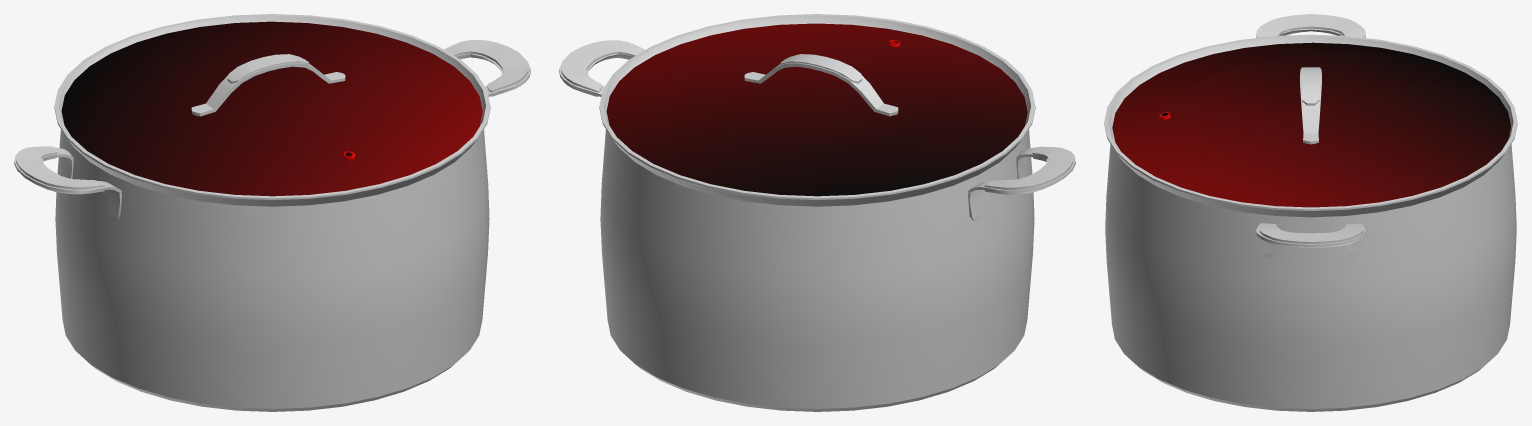
Rendered from Pan.FBX.
3 views of the same model, side by side, from view 1: azimuth 30°, elevation 25°; view 2: azimuth 150°, elevation 25°; view 3: azimuth 270°, elevation 25° (orthographic). The views are drawn at different scales.
Visible parts, largest first — view 1: Pan; view 2: Pan; view 3: Pan.
Boxes of the visible parts, x1=… form: Pan: x1=14, y1=14, x2=530, y2=411; Pan: x1=559, y1=14, x2=1075, y2=411; Pan: x1=1104, y1=14, x2=1517, y2=411.
Bounding box in the file's own units: 0.2954 × 0.1512 × 0.2249.
